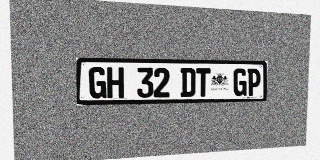2: (154, 68, 169, 97)
3: (137, 67, 153, 98)
D: (180, 68, 195, 97)
G: (89, 67, 106, 99), (233, 68, 247, 96)
H: (107, 67, 124, 98)
P: (247, 68, 261, 96)
T: (196, 68, 210, 97)
